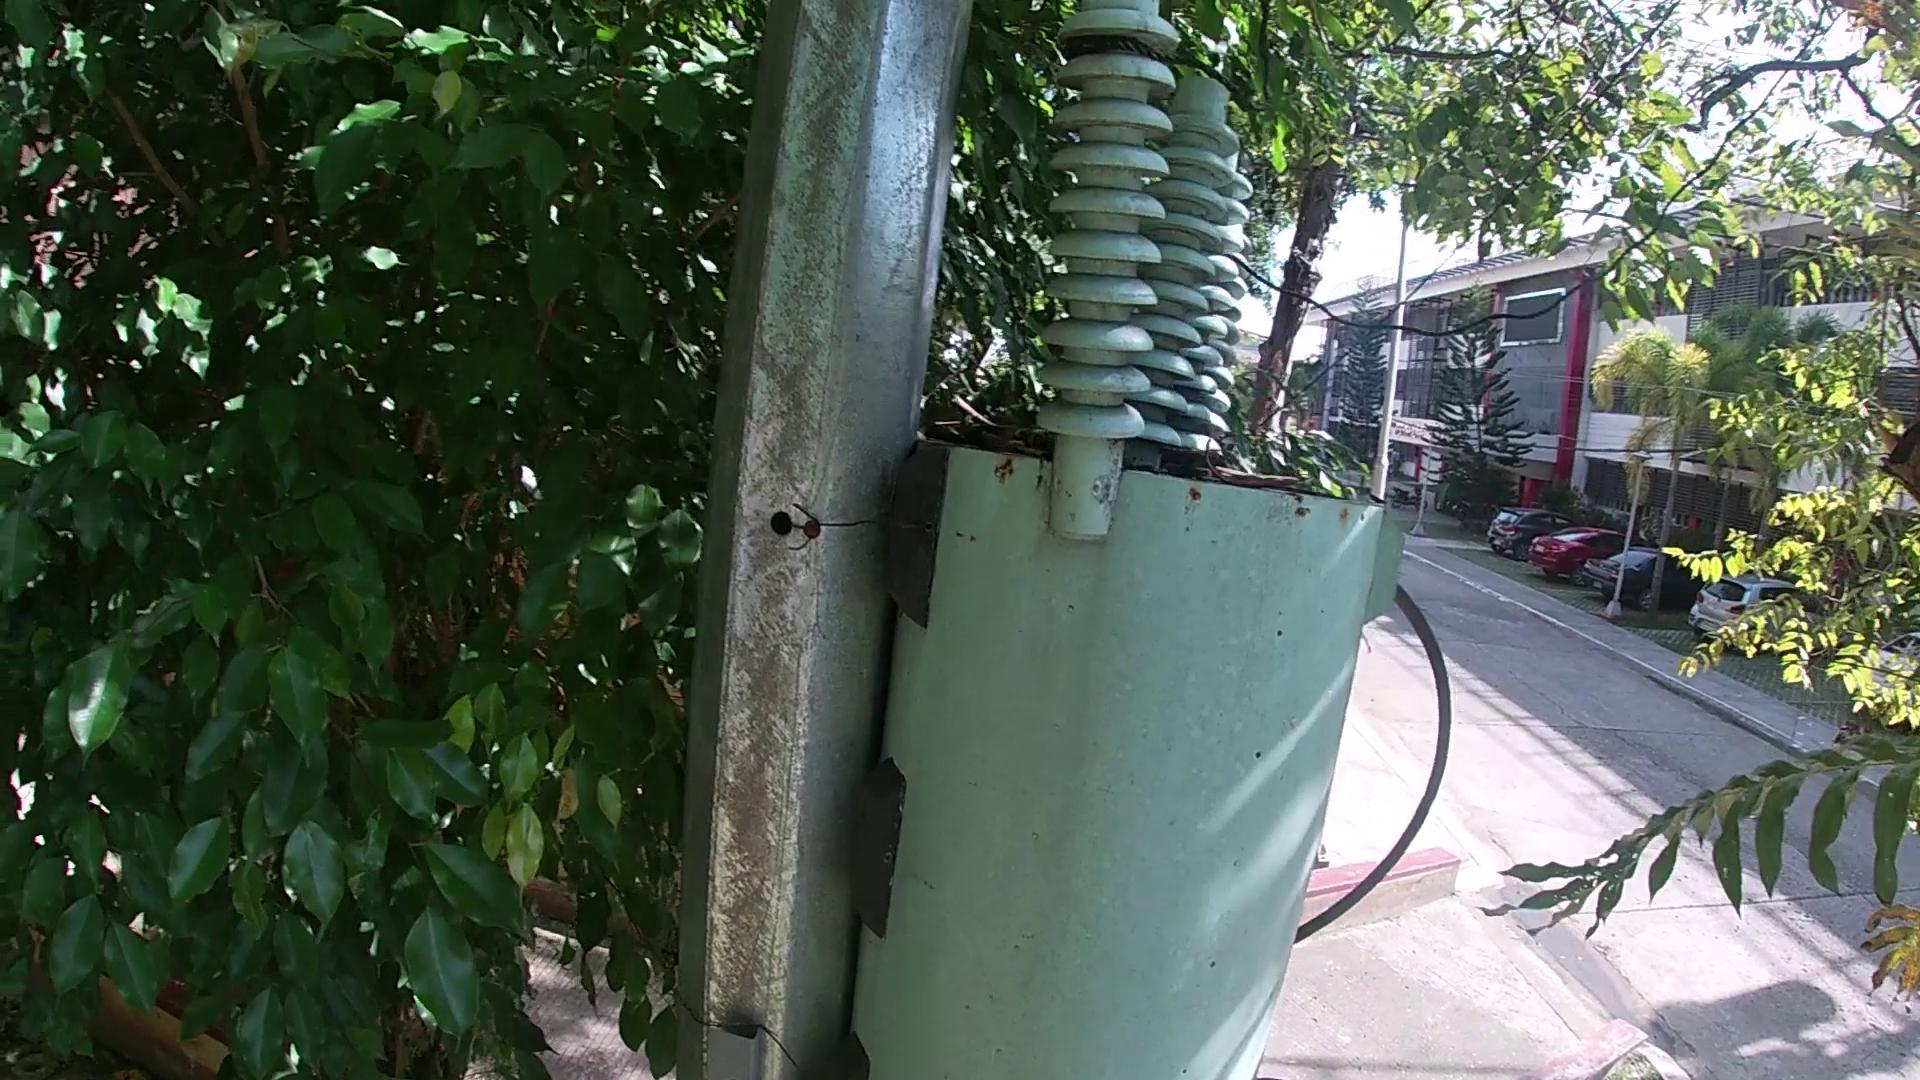mahogany fruit: (1205, 442, 1308, 488)
tree branch: (920, 419, 1054, 436), (949, 392, 988, 419)
